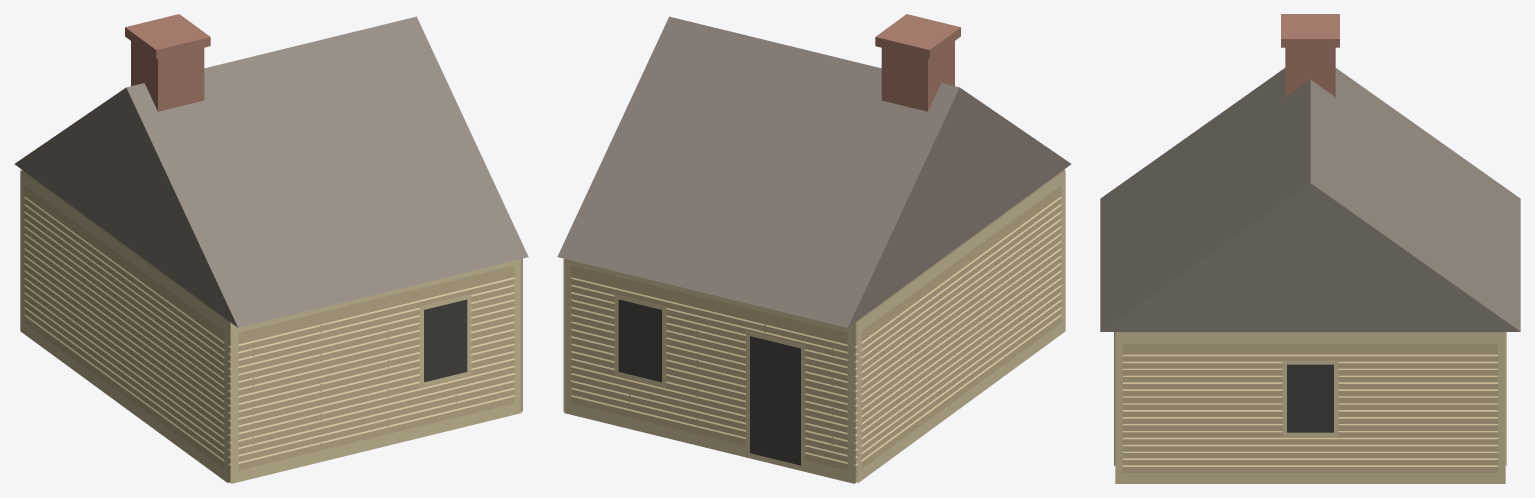
The model's file is recon_1835_south_d3_001__inferred_1835.glb.
3 views of the same model, side by side, from view 1: azimuth 30°, elevation 25°; view 2: azimuth 150°, elevation 25°; view 3: azimuth 270°, elevation 25° (orthographic). The views are drawn at different scales.
Visible parts, largest first — view 1: recon_1835_south_d3_001__inferred_1835; view 2: recon_1835_south_d3_001__inferred_1835; view 3: recon_1835_south_d3_001__inferred_1835.
Part boxes in pixels (x1,y1,x2,y2): recon_1835_south_d3_001__inferred_1835: (14, 14, 528, 483); recon_1835_south_d3_001__inferred_1835: (557, 14, 1071, 483); recon_1835_south_d3_001__inferred_1835: (1100, 14, 1520, 483).
Bounding box in the file's own units: 5.33 × 6.3 × 7.01.
